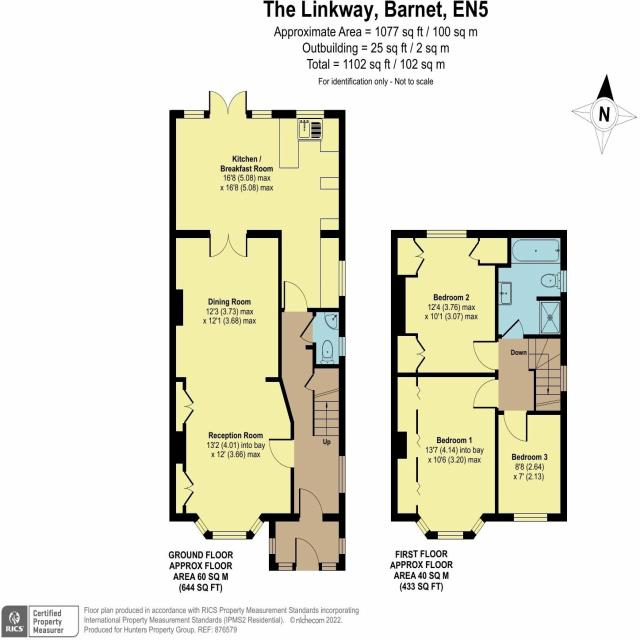DOOR: (502, 409, 529, 443), (298, 487, 324, 522), (472, 377, 499, 410), (294, 537, 320, 571), (472, 339, 499, 371), (268, 437, 295, 469), (283, 281, 308, 312), (501, 317, 525, 339), (298, 315, 316, 344)
DOUBLE DOOR: (206, 86, 249, 119), (208, 229, 250, 258)
ROOM: (169, 89, 346, 312), (169, 230, 295, 541), (390, 372, 499, 541), (391, 230, 512, 377), (495, 410, 568, 522)
WINDOW: (426, 229, 467, 239), (512, 512, 549, 523), (211, 530, 248, 540), (248, 516, 265, 537), (415, 516, 431, 537), (470, 516, 486, 536), (194, 516, 209, 537), (338, 455, 346, 494), (338, 260, 346, 297), (296, 109, 325, 119), (437, 530, 465, 540), (183, 109, 205, 120), (251, 110, 274, 120), (560, 364, 567, 392), (560, 269, 567, 293), (338, 336, 346, 357), (321, 562, 337, 571), (338, 537, 346, 555), (268, 537, 276, 555), (278, 562, 293, 571)
